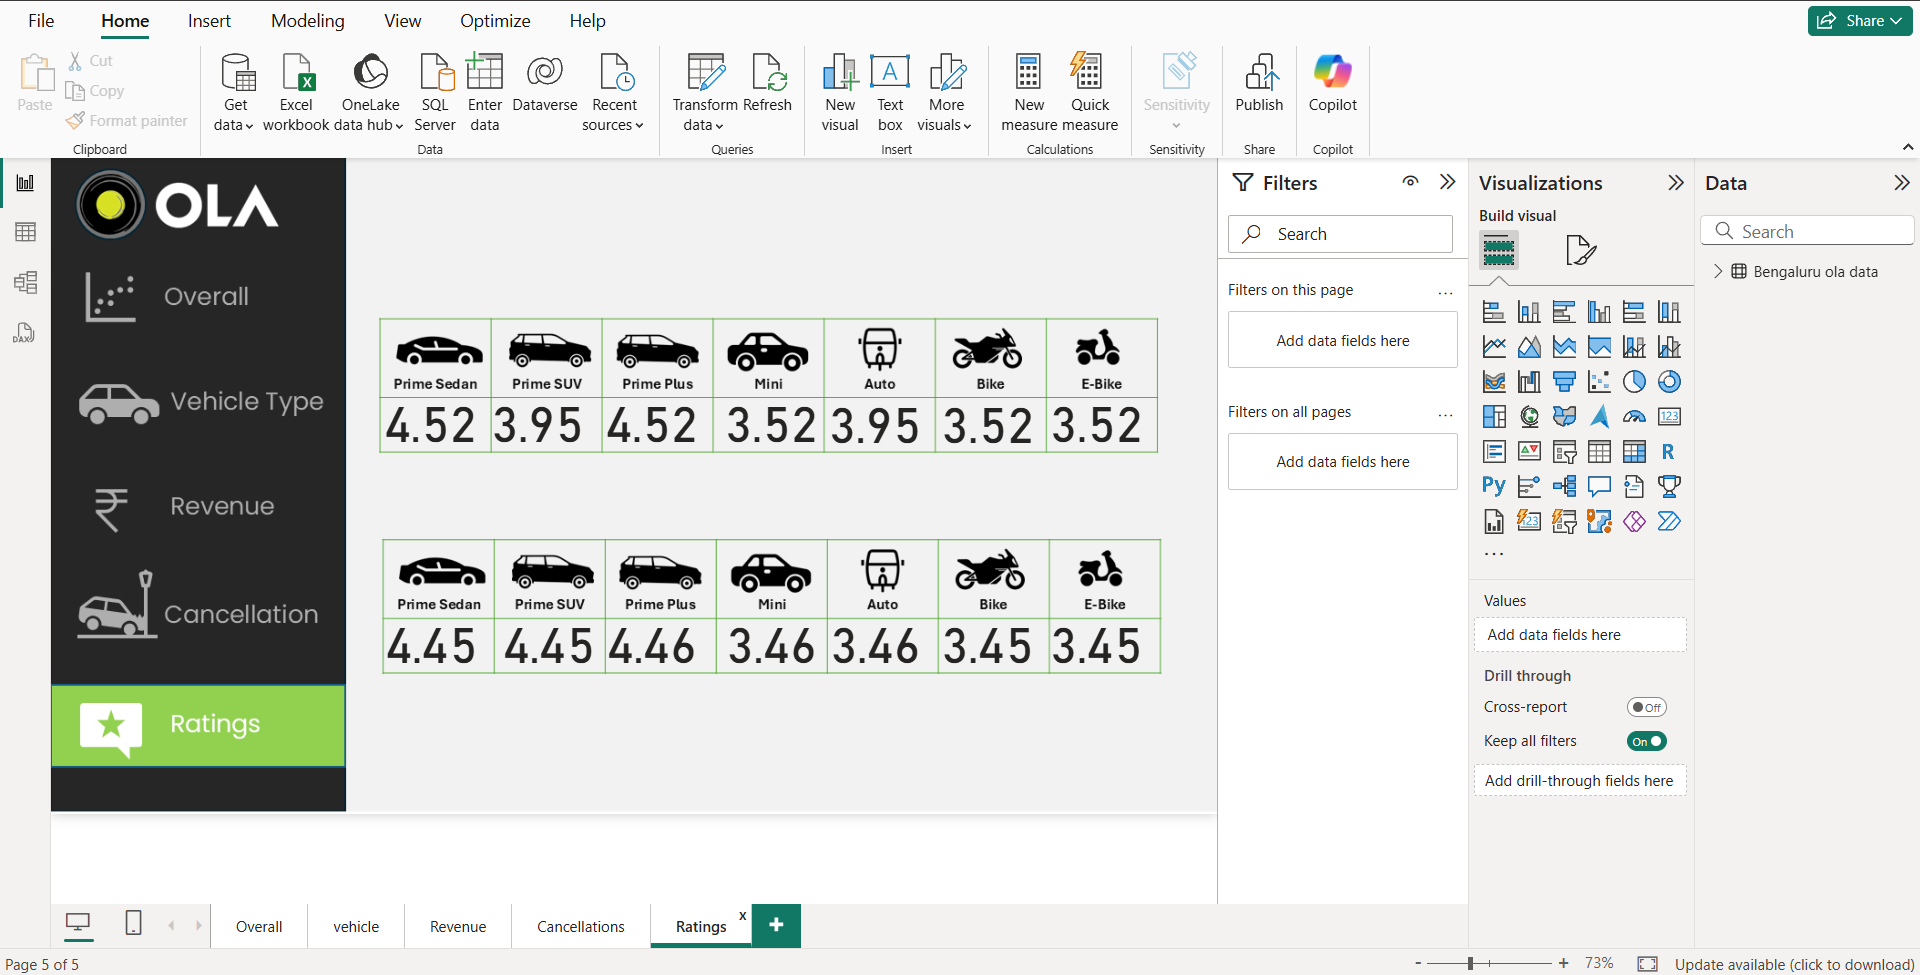

This screenshot's page, from the dashboard's own definition file:
{"tool":"powerbi","page":{"name":"Ratings","canvas":[1280,720],"ordinal":4},"visuals":[{"type":"actionButton","box":[0,344.4,323.8,81],"z":0},{"type":"actionButton","box":[0,448.7,323.8,81],"z":1000},{"type":"actionButton","box":[0,230.5,323.8,81],"z":2000},{"type":"actionButton","box":[0,115.3,323.8,81],"z":3000},{"type":"card","fields":{"Values":["Avg(Bengaluru ola data.Driverr_Ratingg)"]},"box":[323.9,248.7,185.8,75.2],"z":4000},{"type":"card","fields":{"Values":["Avg(Bengaluru ola data.Driverr_Ratingg)"]},"box":[442.1,248.7,185.8,75.2],"z":5000},{"type":"card","fields":{"Values":["Avg(Bengaluru ola data.Driverr_Ratingg)"]},"box":[566.5,248.7,185.8,75.2],"z":6000},{"type":"card","fields":{"Values":["Avg(Bengaluru ola data.Driverr_Ratingg)"]},"box":[698.5,248.7,185.8,75.2],"z":7000},{"type":"card","fields":{"Values":["Avg(Bengaluru ola data.Driverr_Ratingg)"]},"box":[812.1,250.2,185.8,75.2],"z":8000},{"type":"card","fields":{"Values":["Avg(Bengaluru ola data.Driverr_Ratingg)"]},"box":[936.4,250.2,185.8,75.2],"z":9000},{"type":"card","fields":{"Values":["Avg(Bengaluru ola data.Driverr_Ratingg)"]},"box":[1054.6,248.7,185.8,75.2],"z":10000},{"type":"card","fields":{"Values":["Avg(Bengaluru ola data.Customer_Ratingg)"]},"box":[325.5,497.4,185.8,64.5],"z":11000},{"type":"card","fields":{"Values":["Avg(Bengaluru ola data.Customer_Ratingg)"]},"box":[454.4,497.4,185.8,64.5],"z":12000},{"type":"card","fields":{"Values":["Avg(Bengaluru ola data.Customer_Ratingg)"]},"box":[566.5,497.4,185.8,64.5],"z":13000},{"type":"card","fields":{"Values":["Avg(Bengaluru ola data.Customer_Ratingg)"]},"box":[698.5,497.4,185.8,64.5],"z":14000},{"type":"card","fields":{"Values":["Avg(Bengaluru ola data.Customer_Ratingg)"]},"box":[812.1,497.4,185.8,64.5],"z":15000},{"type":"card","fields":{"Values":["Avg(Bengaluru ola data.Customer_Ratingg)"]},"box":[936.4,497.4,185.8,64.5],"z":16000},{"type":"card","fields":{"Values":["Avg(Bengaluru ola data.Customer_Ratingg)"]},"box":[1054.6,497.4,185.8,64.5],"z":17000}]}

Visuals, with their boxes on the page's 1280x720 design canvas (x1, y1, x2, y2). These are canvas units, not pixel positions in the 1920x975 screenshot, which may show the page scaled, cropped or inside an application window:
actionButton: 0/344/324/425
actionButton: 0/449/324/530
actionButton: 0/230/324/312
actionButton: 0/115/324/196
card - Avg(Bengaluru ola data.Driverr_Ratingg): 324/249/510/324
card - Avg(Bengaluru ola data.Driverr_Ratingg): 442/249/628/324
card - Avg(Bengaluru ola data.Driverr_Ratingg): 566/249/752/324
card - Avg(Bengaluru ola data.Driverr_Ratingg): 698/249/884/324
card - Avg(Bengaluru ola data.Driverr_Ratingg): 812/250/998/325
card - Avg(Bengaluru ola data.Driverr_Ratingg): 936/250/1122/325
card - Avg(Bengaluru ola data.Driverr_Ratingg): 1055/249/1240/324
card - Avg(Bengaluru ola data.Customer_Ratingg): 326/497/511/562
card - Avg(Bengaluru ola data.Customer_Ratingg): 454/497/640/562
card - Avg(Bengaluru ola data.Customer_Ratingg): 566/497/752/562
card - Avg(Bengaluru ola data.Customer_Ratingg): 698/497/884/562
card - Avg(Bengaluru ola data.Customer_Ratingg): 812/497/998/562
card - Avg(Bengaluru ola data.Customer_Ratingg): 936/497/1122/562
card - Avg(Bengaluru ola data.Customer_Ratingg): 1055/497/1240/562
